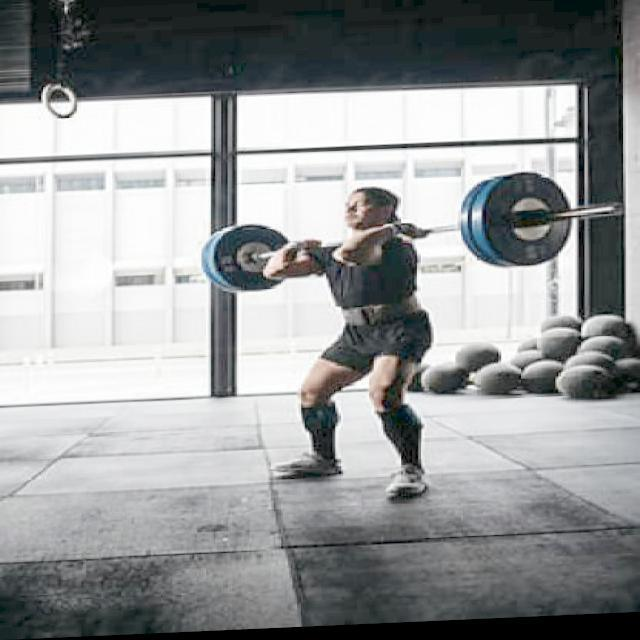barbell: (479, 172, 628, 277)
